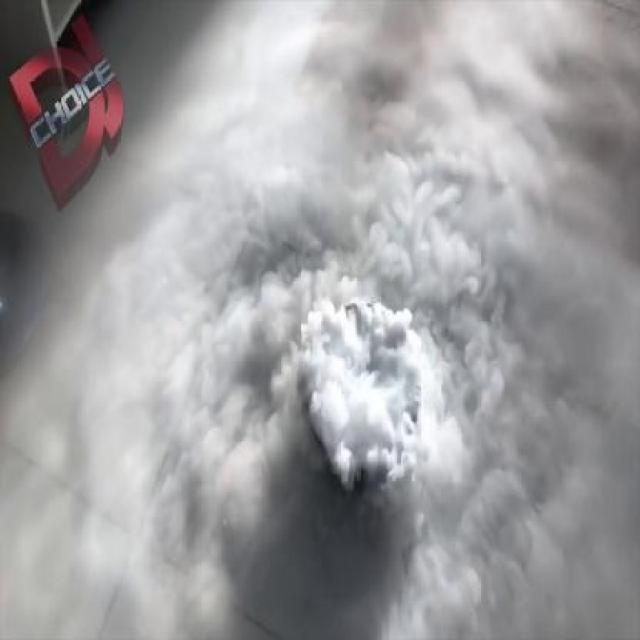smoke: (278, 163, 538, 602)
